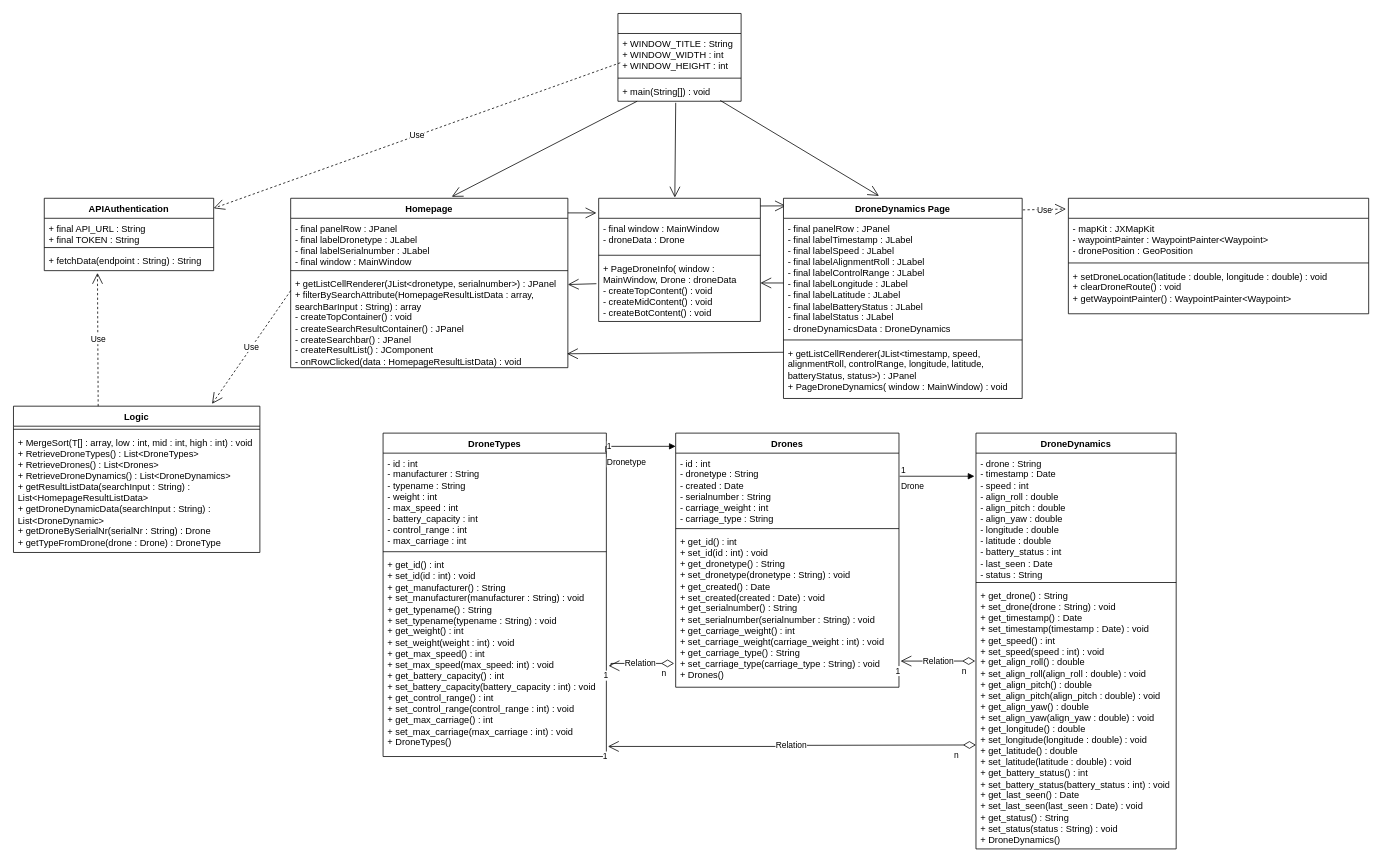
Some shapes in this 1382 by 865 pixel diagram are drawn without their labels. The shapes that lost their labels are listed below. From the top down, each one's box as (x1, y1, x2, y2) in pixels, then its label:
(617, 13, 741, 101): App
(598, 198, 760, 321): DroneInfo Page
(1068, 198, 1369, 314): DroneMapPanel
